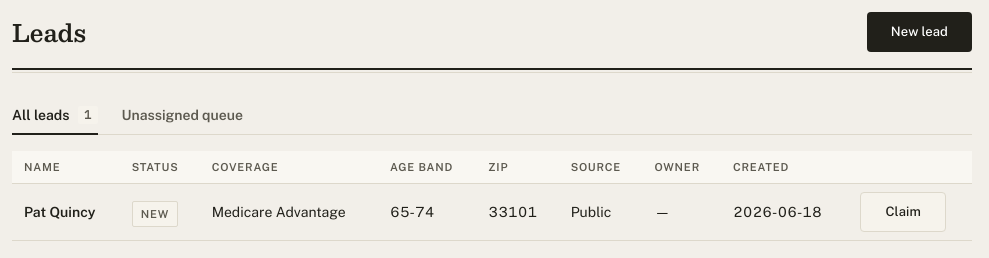
Scenario: LeadsListPage claim action › claims a lead then refetches the active tab to reconcile
Click the button with id "leads-list-row-claimable-claim-button" at (903,212), box x1=860 y1=192 x2=946 y2=232
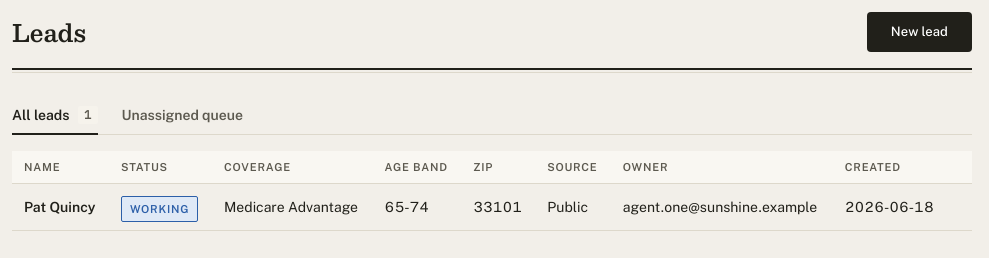
Now the text with id "leads-list-row-claimable-status-stamp-label" reads "Working", box x1=130 y1=203 x2=189 y2=215
Now the button with id "leads-list-row-claimable-claim-button" is gone
Now the cell with id "leads-list-row-claimable-owner" reads "agent.one@sunshine.example", box x1=623 y1=199 x2=817 y2=215
